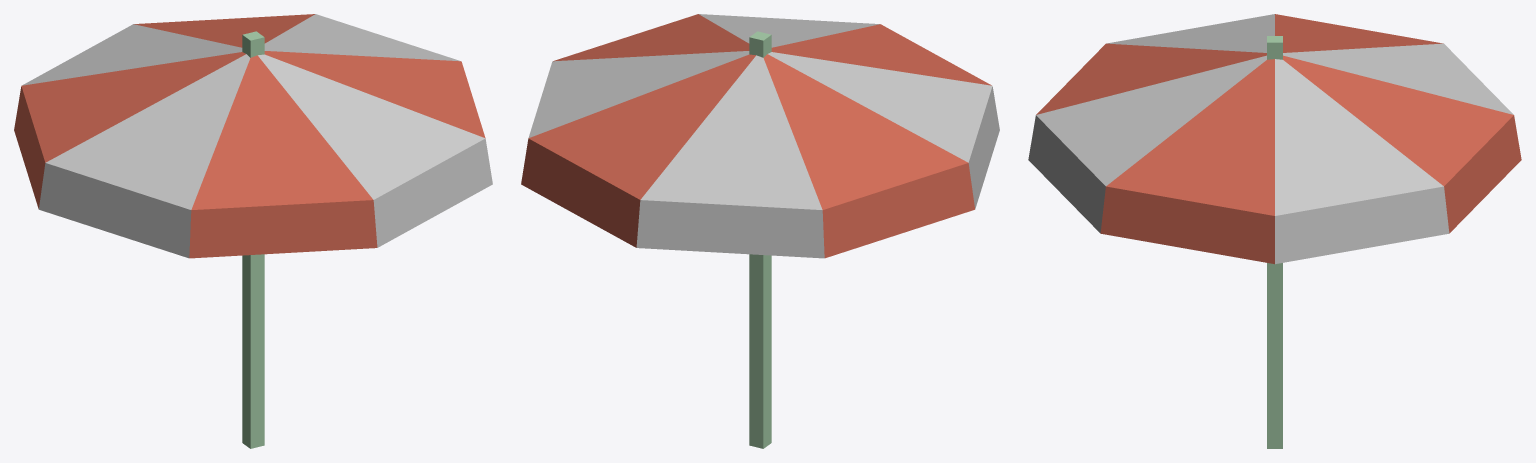
File: parasol.fbx
3 renders of one model, left to right at view 1: azimuth 30°, elevation 25°; view 2: azimuth 150°, elevation 25°; view 3: azimuth 270°, elevation 25°, orthographic.
Visible parts, largest first — view 1: Sphere, Cube; view 2: Sphere, Cube; view 3: Sphere, Cube.
Boxes of the visible parts, x1,y1,x2,y2 form: Sphere: (14,14,492,258); Cube: (242,31,264,448); Sphere: (521,14,999,258); Cube: (749,31,771,448); Sphere: (1028,14,1521,264); Cube: (1267,36,1282,448).
Size of the model in its own units: 122 by 111 by 122.
